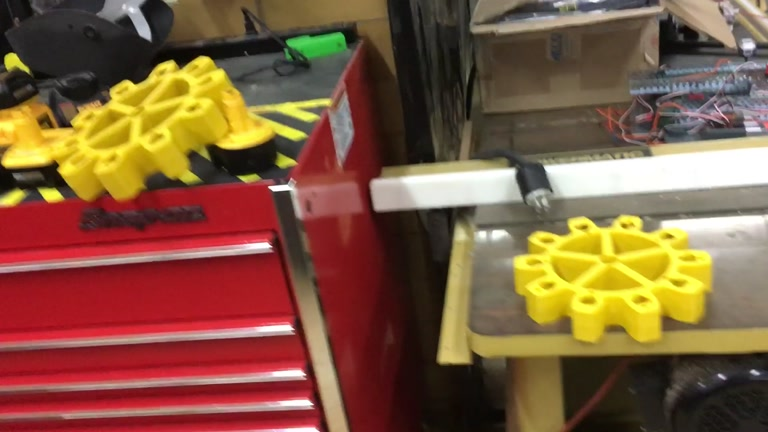gear: (53, 55, 240, 203), (511, 213, 712, 343)
